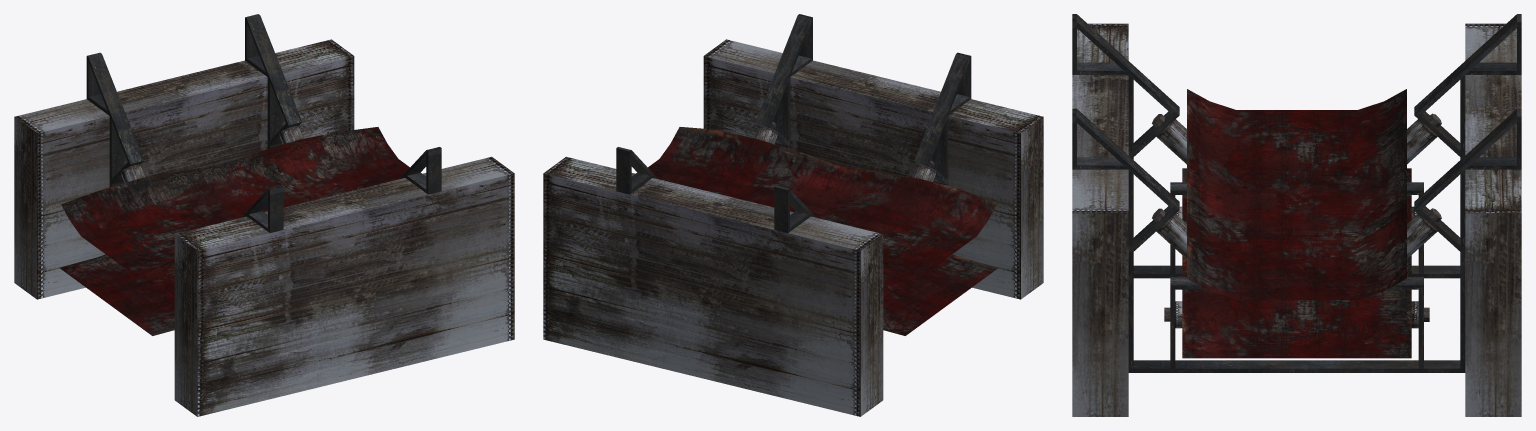
File: conveyor_section_01.DAE
The picture shows the model from 3 angles, left to right: view 1: azimuth 30°, elevation 25°; view 2: azimuth 150°, elevation 25°; view 3: azimuth 270°, elevation 25°; orthographic projection. The views are drawn at different scales.
Parts seen in each view (by area): view 1: Object027, Object028, Box010; view 2: Object027, Object028, Box010; view 3: Object028, Object027, Box010.
Part boxes in pixels (x1,y1,x2,y2): Object027: [14, 39, 514, 416]; Object028: [59, 127, 409, 335]; Box010: [86, 14, 441, 232]; Object027: [543, 39, 1043, 416]; Object028: [648, 127, 998, 335]; Box010: [616, 14, 971, 232]; Object028: [1182, 89, 1411, 358]; Object027: [1072, 23, 1521, 416]; Box010: [1072, 14, 1521, 372].
Bounding box in the file's own units: 4 × 2.52 × 4.
